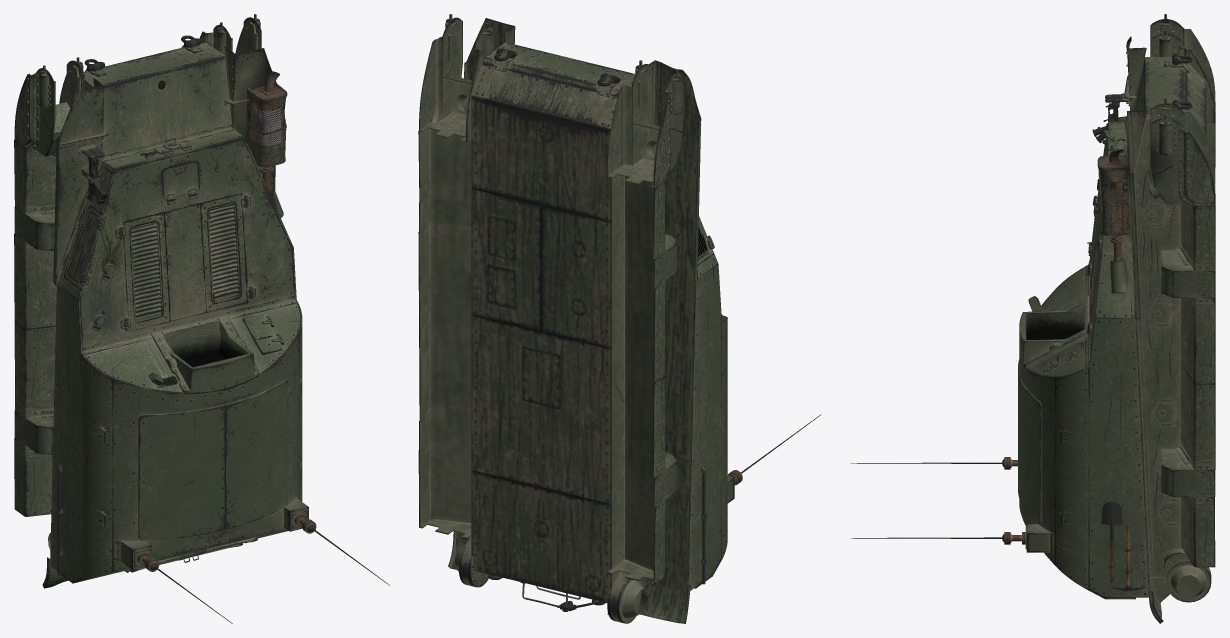
The model's file is Hull.glb.
The picture shows the model from 3 angles, left to right: view 1: azimuth 30°, elevation 25°; view 2: azimuth 150°, elevation 25°; view 3: azimuth 270°, elevation 25°; orthographic projection. The views are drawn at different scales.
Visible parts, largest first — view 1: set_0_group_0; view 2: set_0_group_0; view 3: set_0_group_0.
Boxes of the visible parts, x1,y1,x2,y2 form: set_0_group_0: (14,14,389,623); set_0_group_0: (418,14,821,623); set_0_group_0: (850,14,1215,623).
Size of the model in its own units: 2.81 by 6.18 by 4.03.
Materials: 1 (1 with a texture image).
